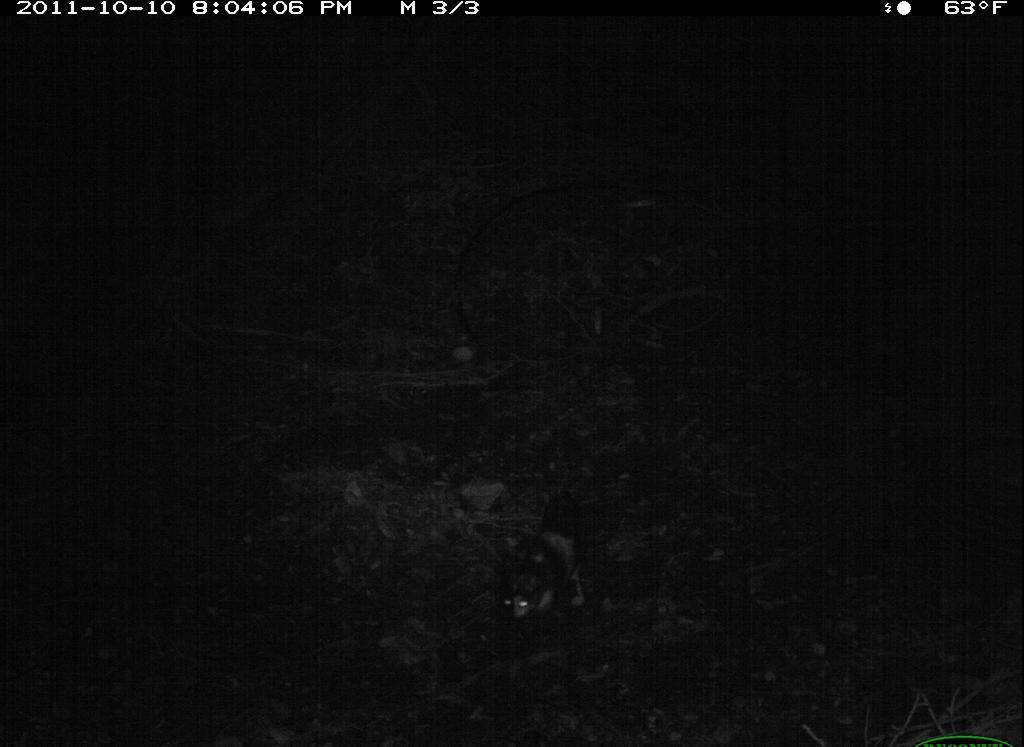cat: (496, 464, 602, 658)
